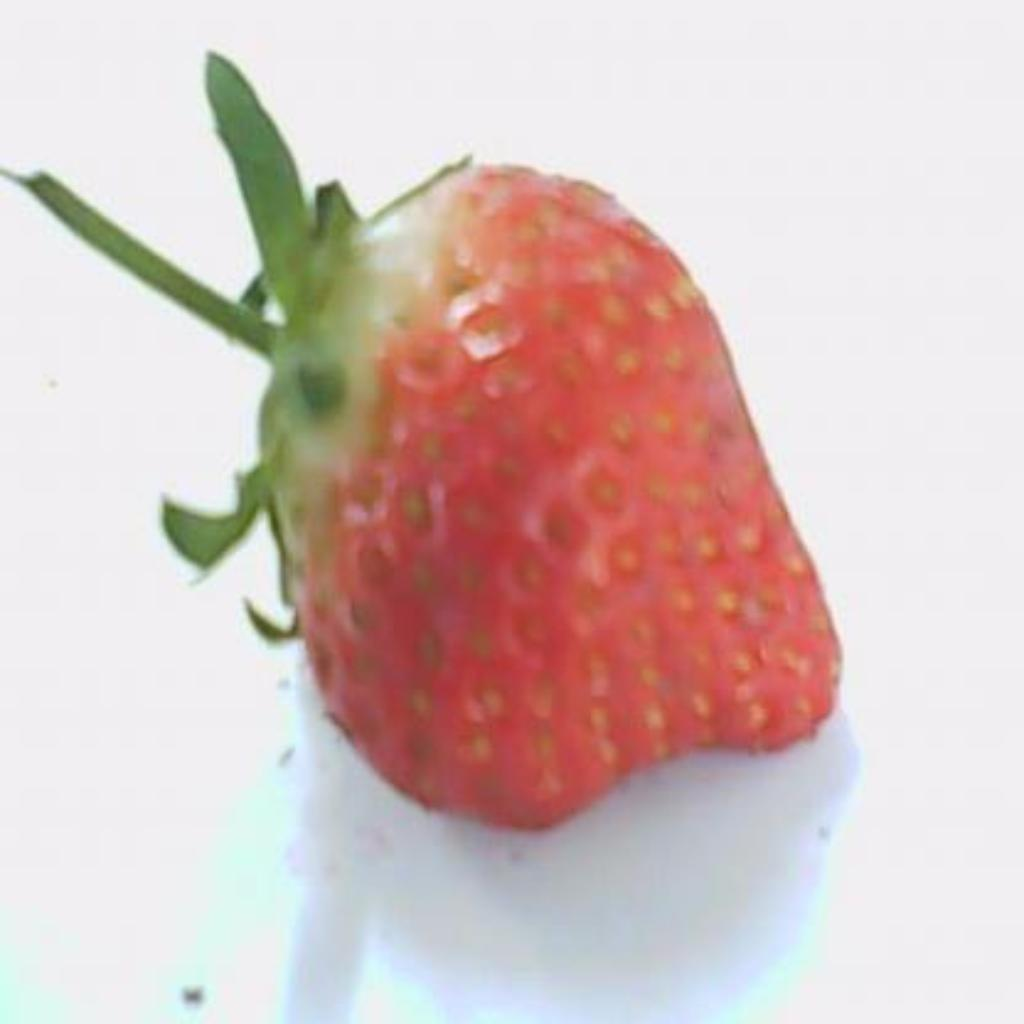strawberry: (5, 54, 840, 827)
